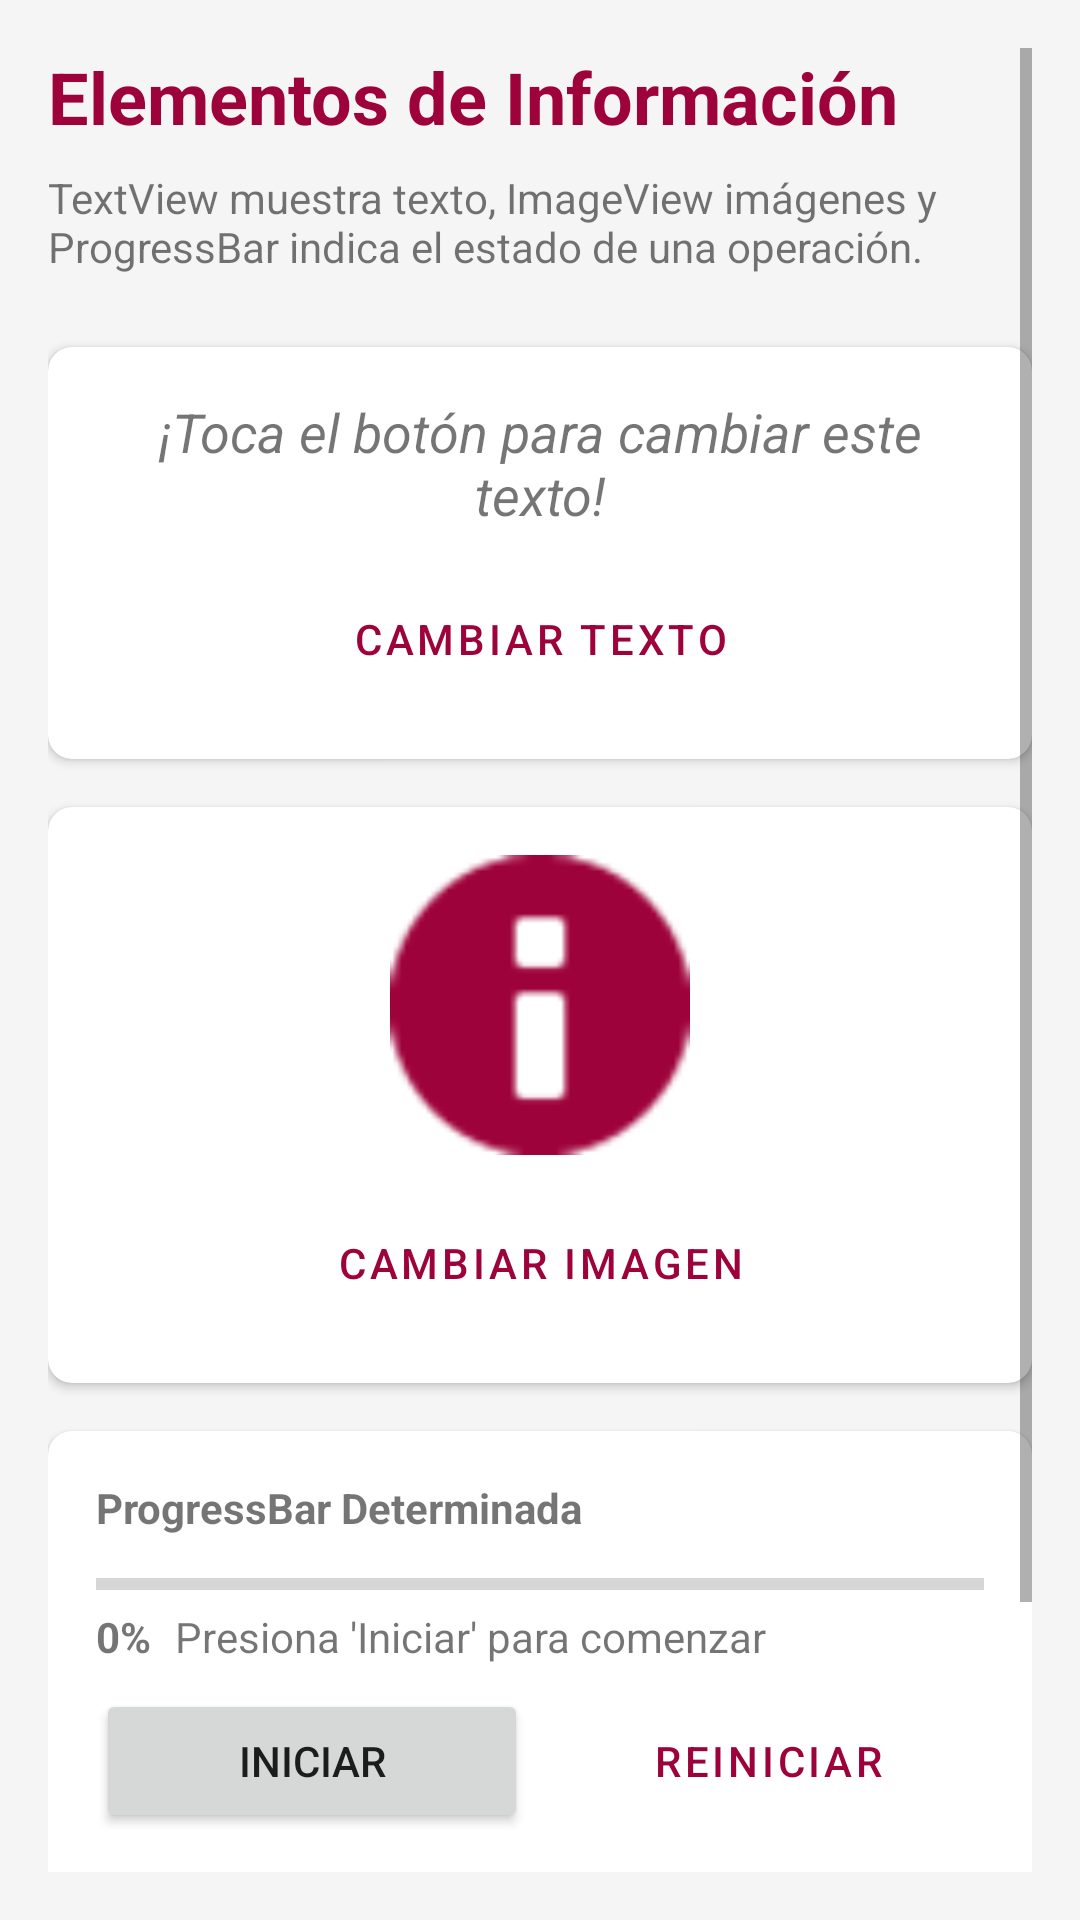

Screen size 1080px×1920px. Icon name, then its box in pixels as (x1=x1, y1=y1, x2=x2, y2=y2):
info: (x1=390, y1=855, x2=690, y2=1155)
